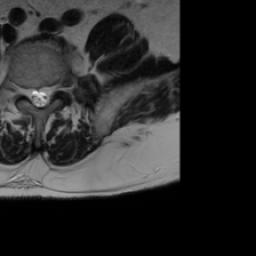CCS_normal: (35, 78, 42, 116)
LFS_normal: (51, 73, 59, 102)
LLS_normal: (42, 77, 50, 112)
RFS_normal: (19, 76, 27, 103)
RLS_normal: (27, 79, 35, 112)
